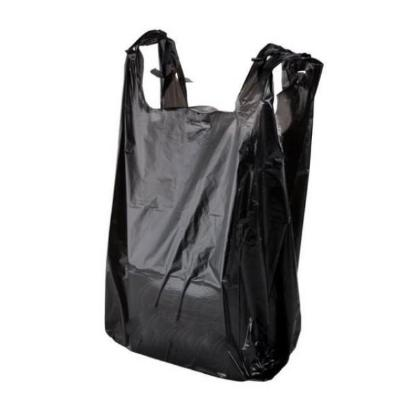Plastic Bag: (103, 26, 324, 382)
